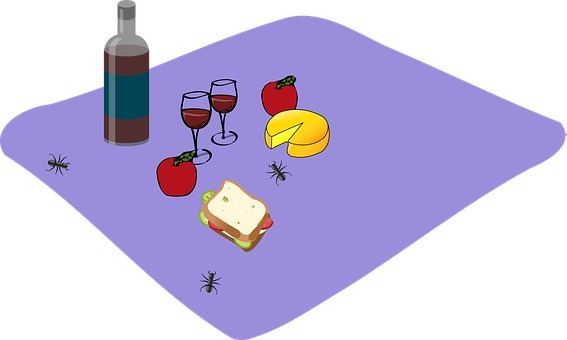bottle: (98, 1, 155, 151)
